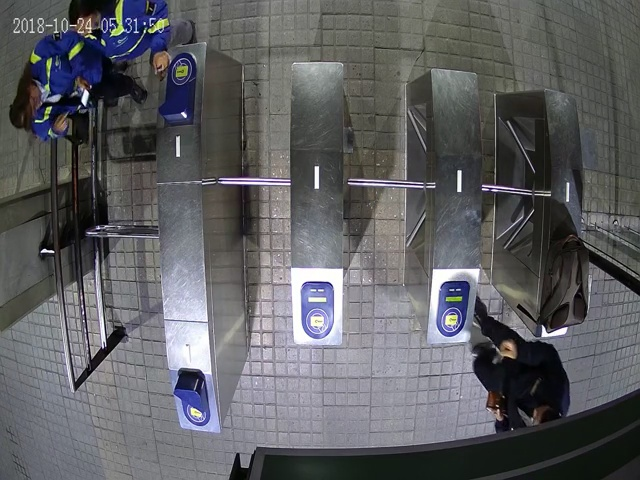Chaleco_azul: (8, 36, 147, 142), (66, 1, 175, 79)
